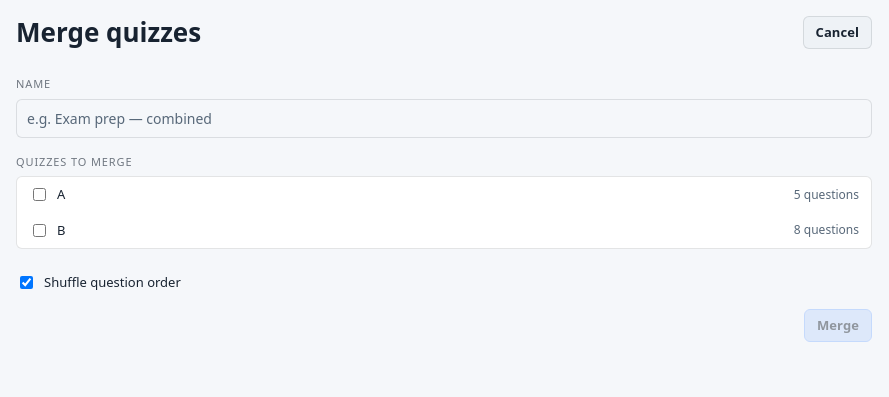
Test: MergeQuizDialog › shows the live question total for the selected decks
The width and height of the screenshot is (889, 397).
Step 1. Click the checkbox labelled "A 5 questions" → [40, 195], box [33,188,46,201]
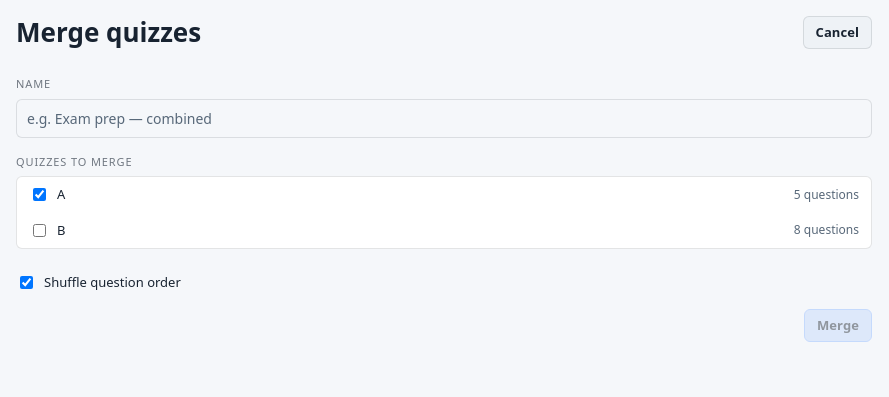
Step 2. Click the checkbox labelled "B 8 questions" → [40, 230], box [33,224,46,237]
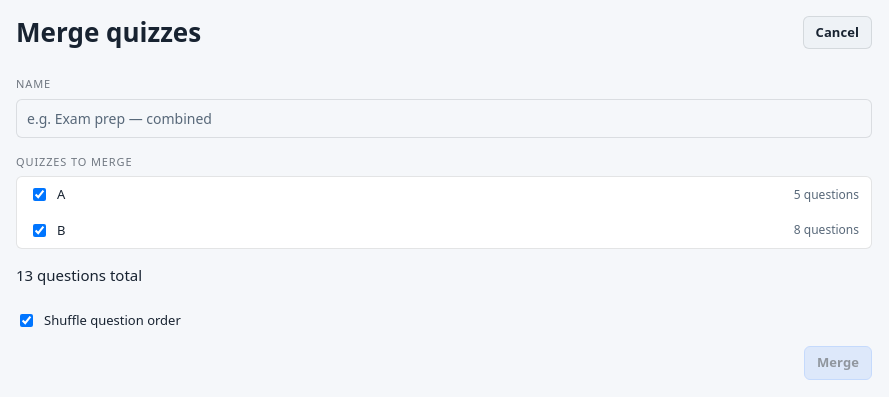
Now the text "13 questions total" is shown, box [16,265,142,285]
